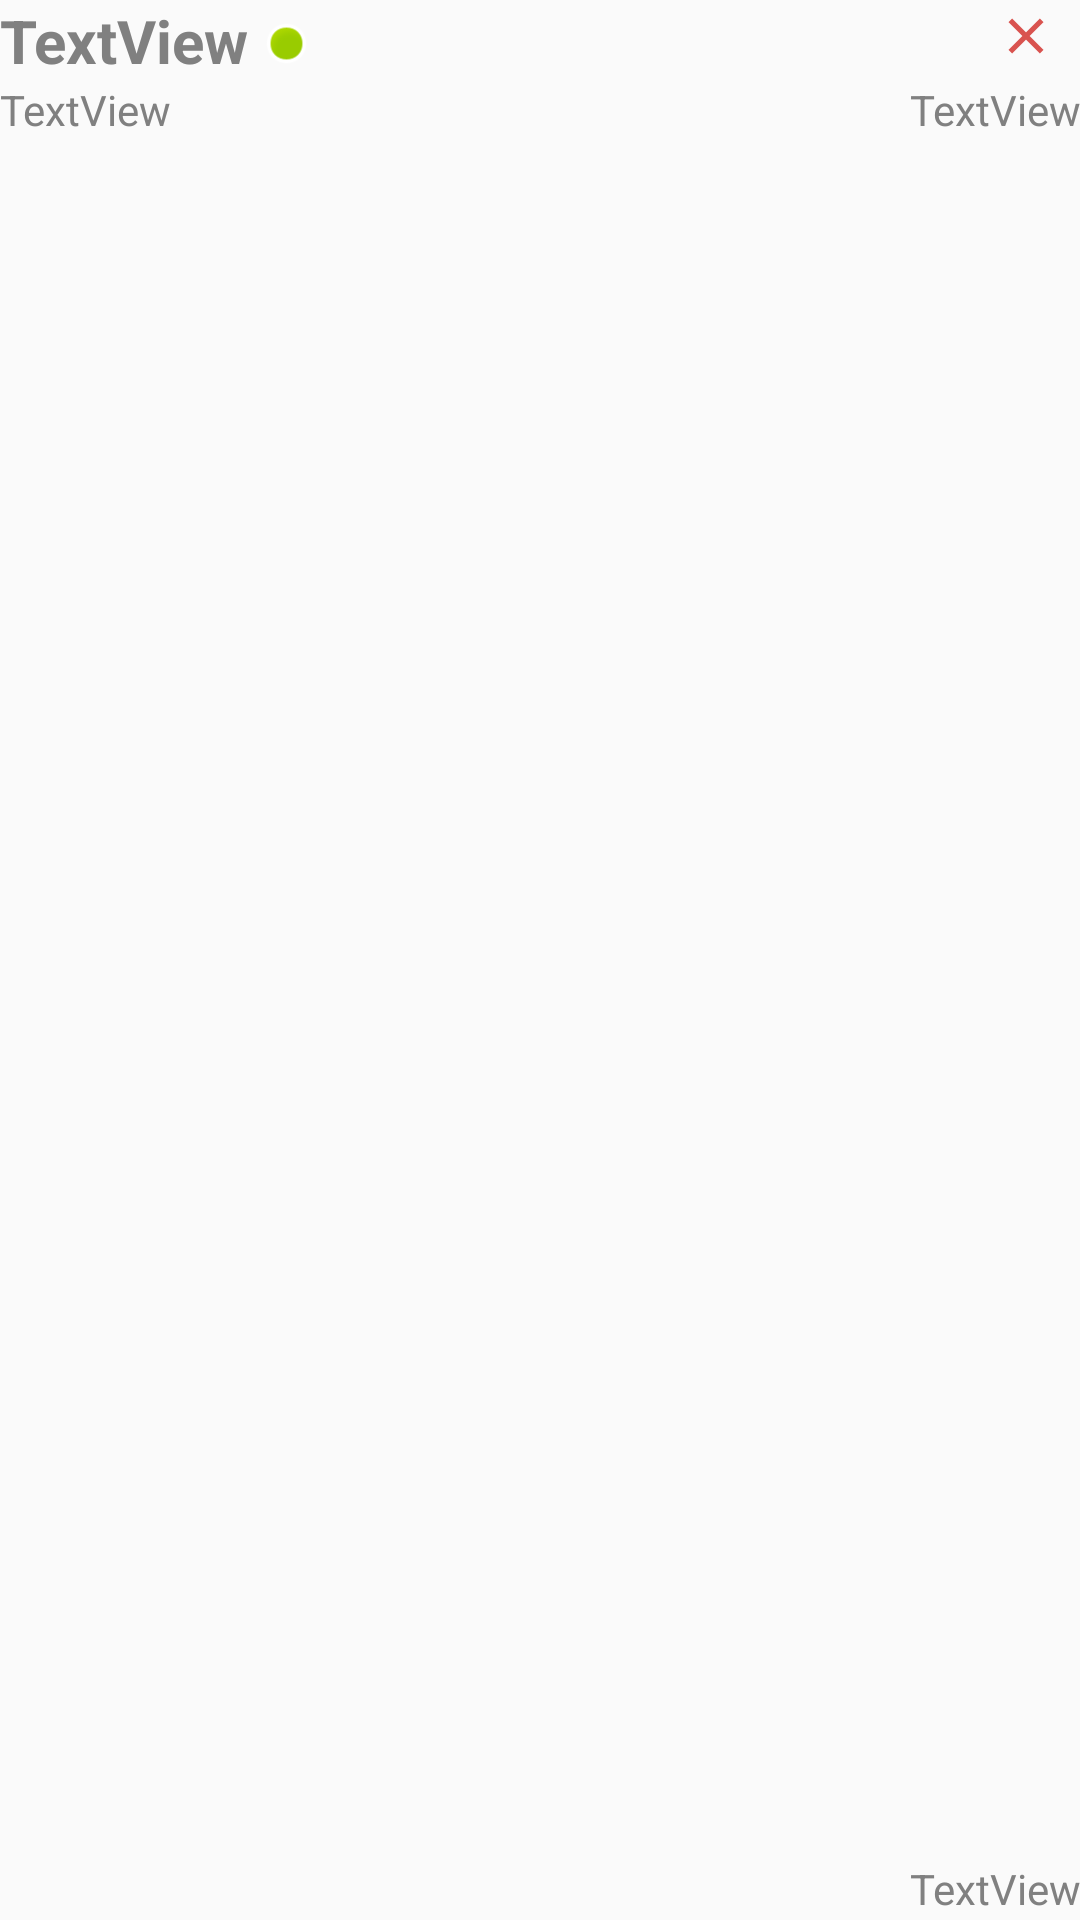

Icon click points for this 1080*1920 phone screenshot, format [x,y]:
delete task: [1026,36]
presence online: [286,43]
